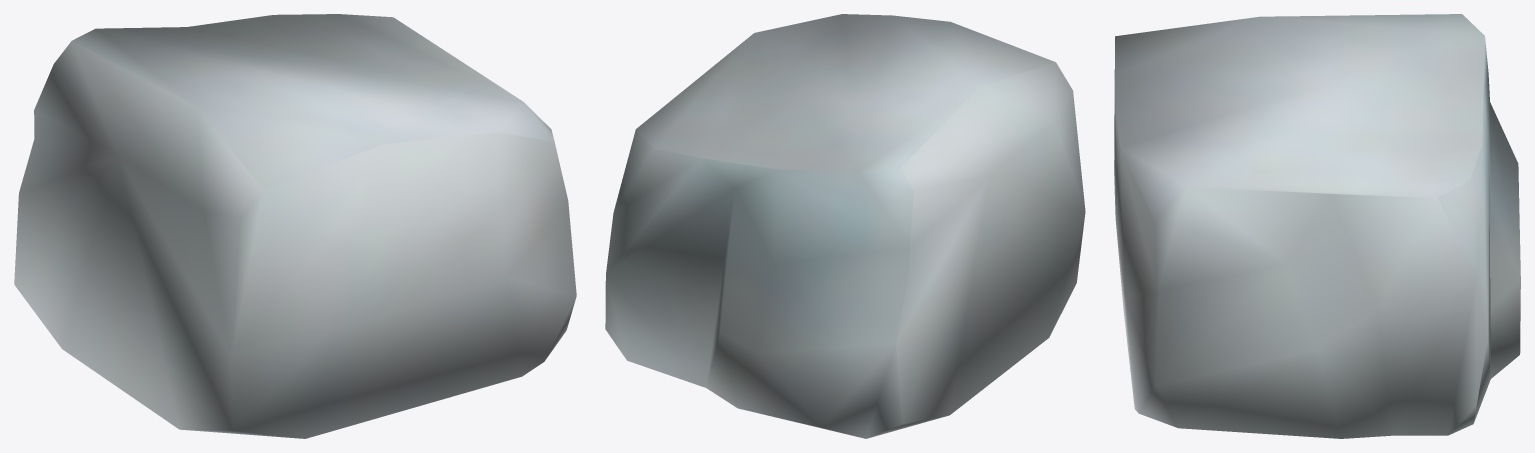
Rendered from P_RockCubic05.obj.
The picture shows the model from 3 angles, left to right: view 1: azimuth 30°, elevation 25°; view 2: azimuth 150°, elevation 25°; view 3: azimuth 270°, elevation 25°; orthographic projection. The views are drawn at different scales.
Bounding box in the file's own units: 1.69 × 1.25 × 1.66.
